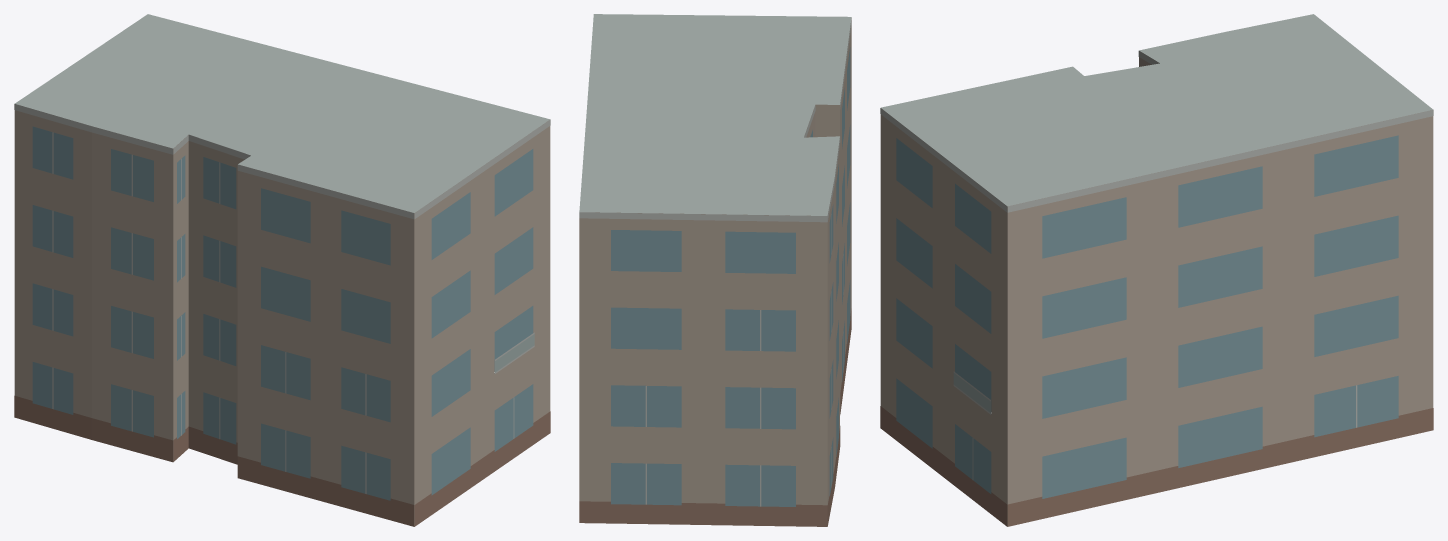
The model's file is survey-upis-32736013.glb.
3 renders of one model, left to right at view 1: azimuth 30°, elevation 25°; view 2: azimuth 150°, elevation 25°; view 3: azimuth 270°, elevation 25°, orthographic. The views are drawn at different scales.
Parts seen in each view (by area): view 1: survey-upis-32736013.tmp; view 2: survey-upis-32736013.tmp; view 3: survey-upis-32736013.tmp.
Part boxes in pixels (box(x1,y1,x2,y2)): survey-upis-32736013.tmp: box(14, 14, 550, 526); survey-upis-32736013.tmp: box(579, 14, 851, 526); survey-upis-32736013.tmp: box(880, 14, 1433, 526).
Size of the model in its own units: 15.71 by 12.2 by 19.09.
